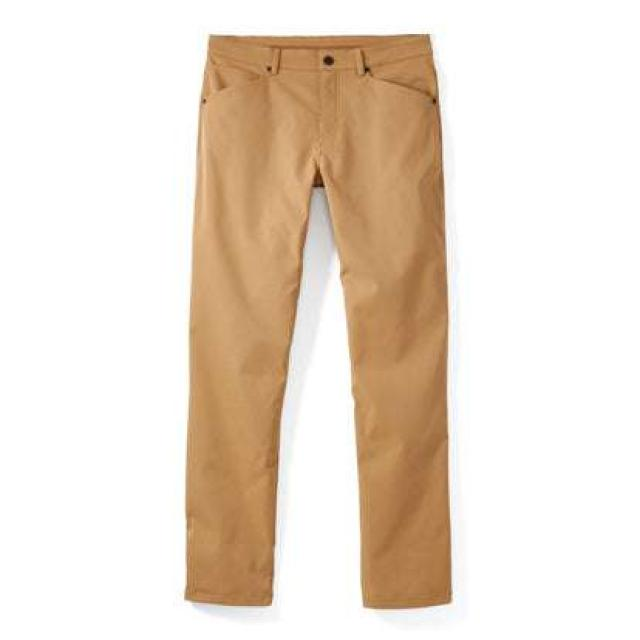long-pants: (182, 36, 454, 614)
